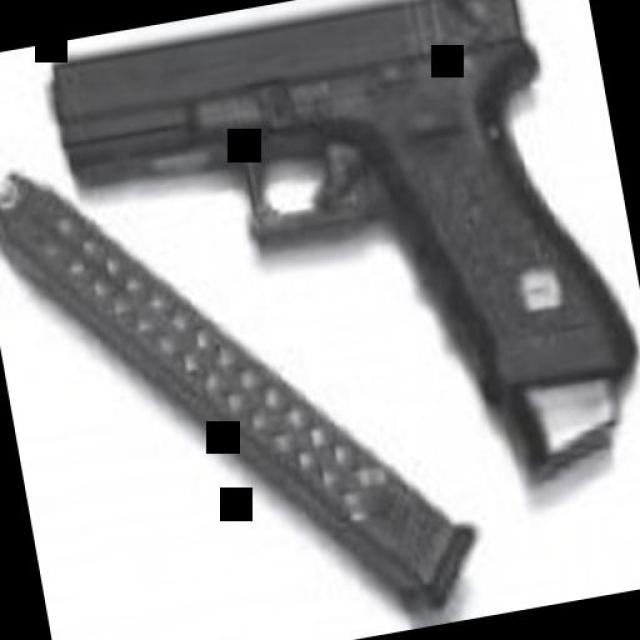gun: (39, 0, 640, 541)
